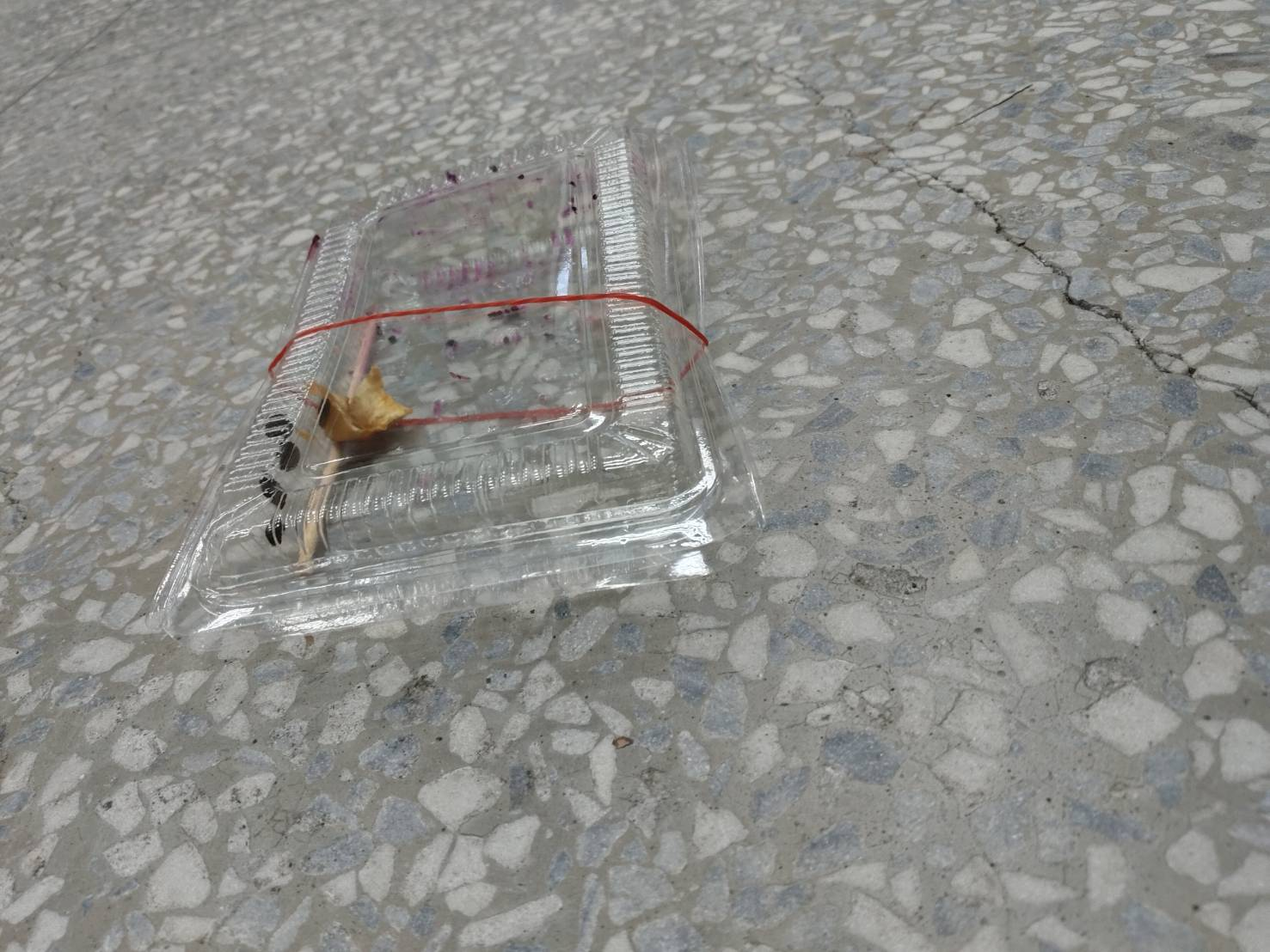plastic: (146, 97, 796, 677)
